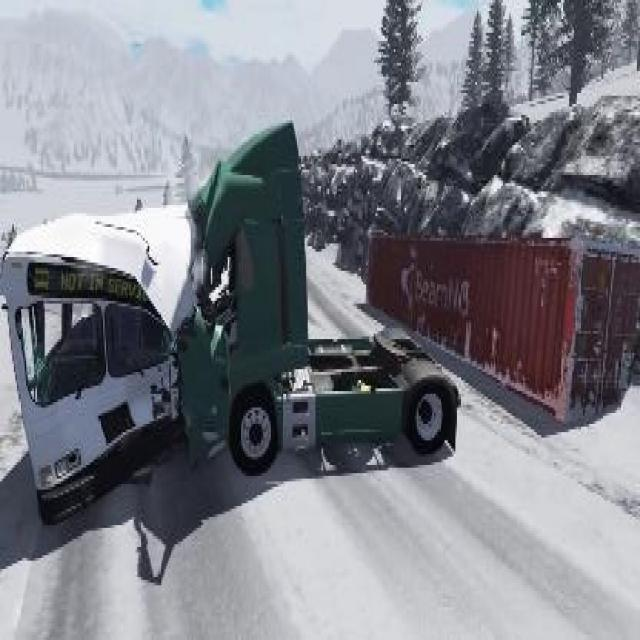accident: (0, 104, 458, 547)
